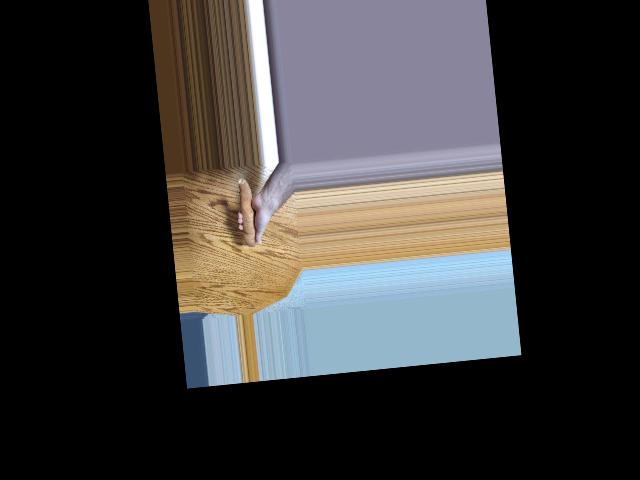sweet_potato: (237, 175, 264, 248)
